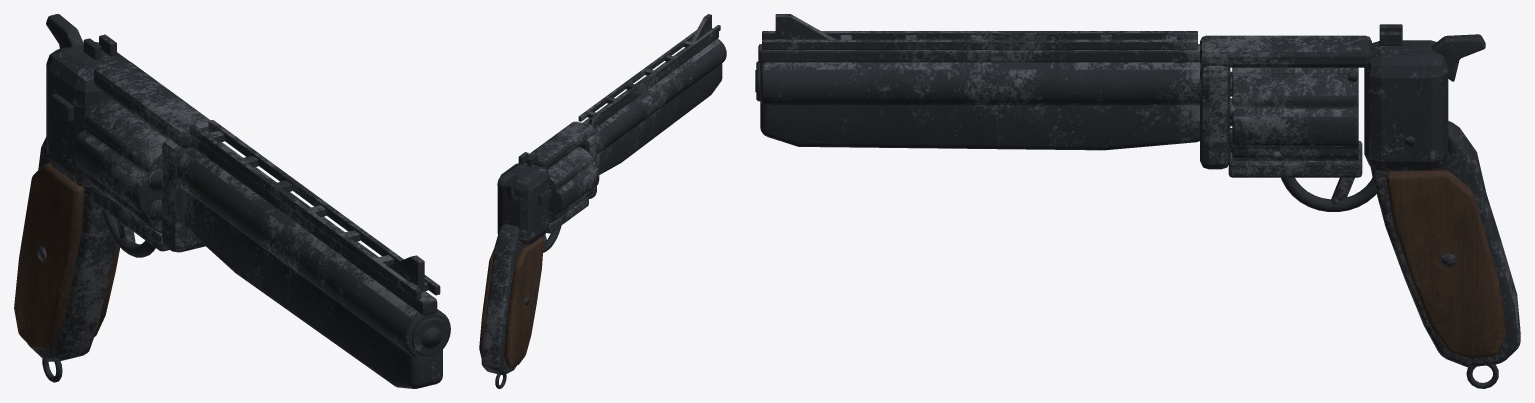
Rendered from wpn_hammerhead.gltf.
The picture shows the model from 3 angles, left to right: view 1: azimuth 30°, elevation 25°; view 2: azimuth 150°, elevation 25°; view 3: azimuth 270°, elevation 25°; orthographic projection. The views are drawn at different scales.
Parts seen in each view (by area): view 1: wpn_hammerhead_gun_steel_01, wpn_hammerhead_gun_wood_01; view 2: wpn_hammerhead_gun_steel_01, wpn_hammerhead_gun_wood_01; view 3: wpn_hammerhead_gun_steel_01, wpn_hammerhead_gun_wood_01.
Boxes of the visible parts, x1=… form: wpn_hammerhead_gun_steel_01: x1=27, y1=14, x2=450, y2=388; wpn_hammerhead_gun_wood_01: x1=14, y1=163, x2=120, y2=349; wpn_hammerhead_gun_steel_01: x1=481, y1=14, x2=726, y2=388; wpn_hammerhead_gun_wood_01: x1=479, y1=237, x2=543, y2=367; wpn_hammerhead_gun_steel_01: x1=755, y1=14, x2=1520, y2=388; wpn_hammerhead_gun_wood_01: x1=1386, y1=170, x2=1507, y2=358.
Size of the model in its own units: 0.051 by 0.2155 by 0.4002.
2 materials, 2 textured.
